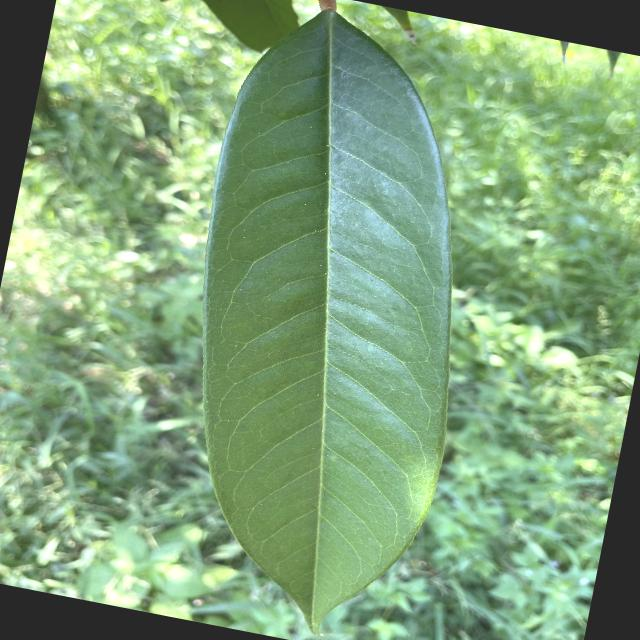No Disease: (125, 0, 531, 639)
